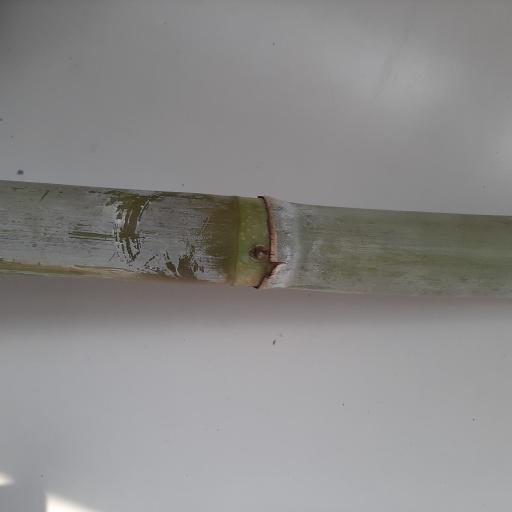Bud: (246, 246, 268, 262)
